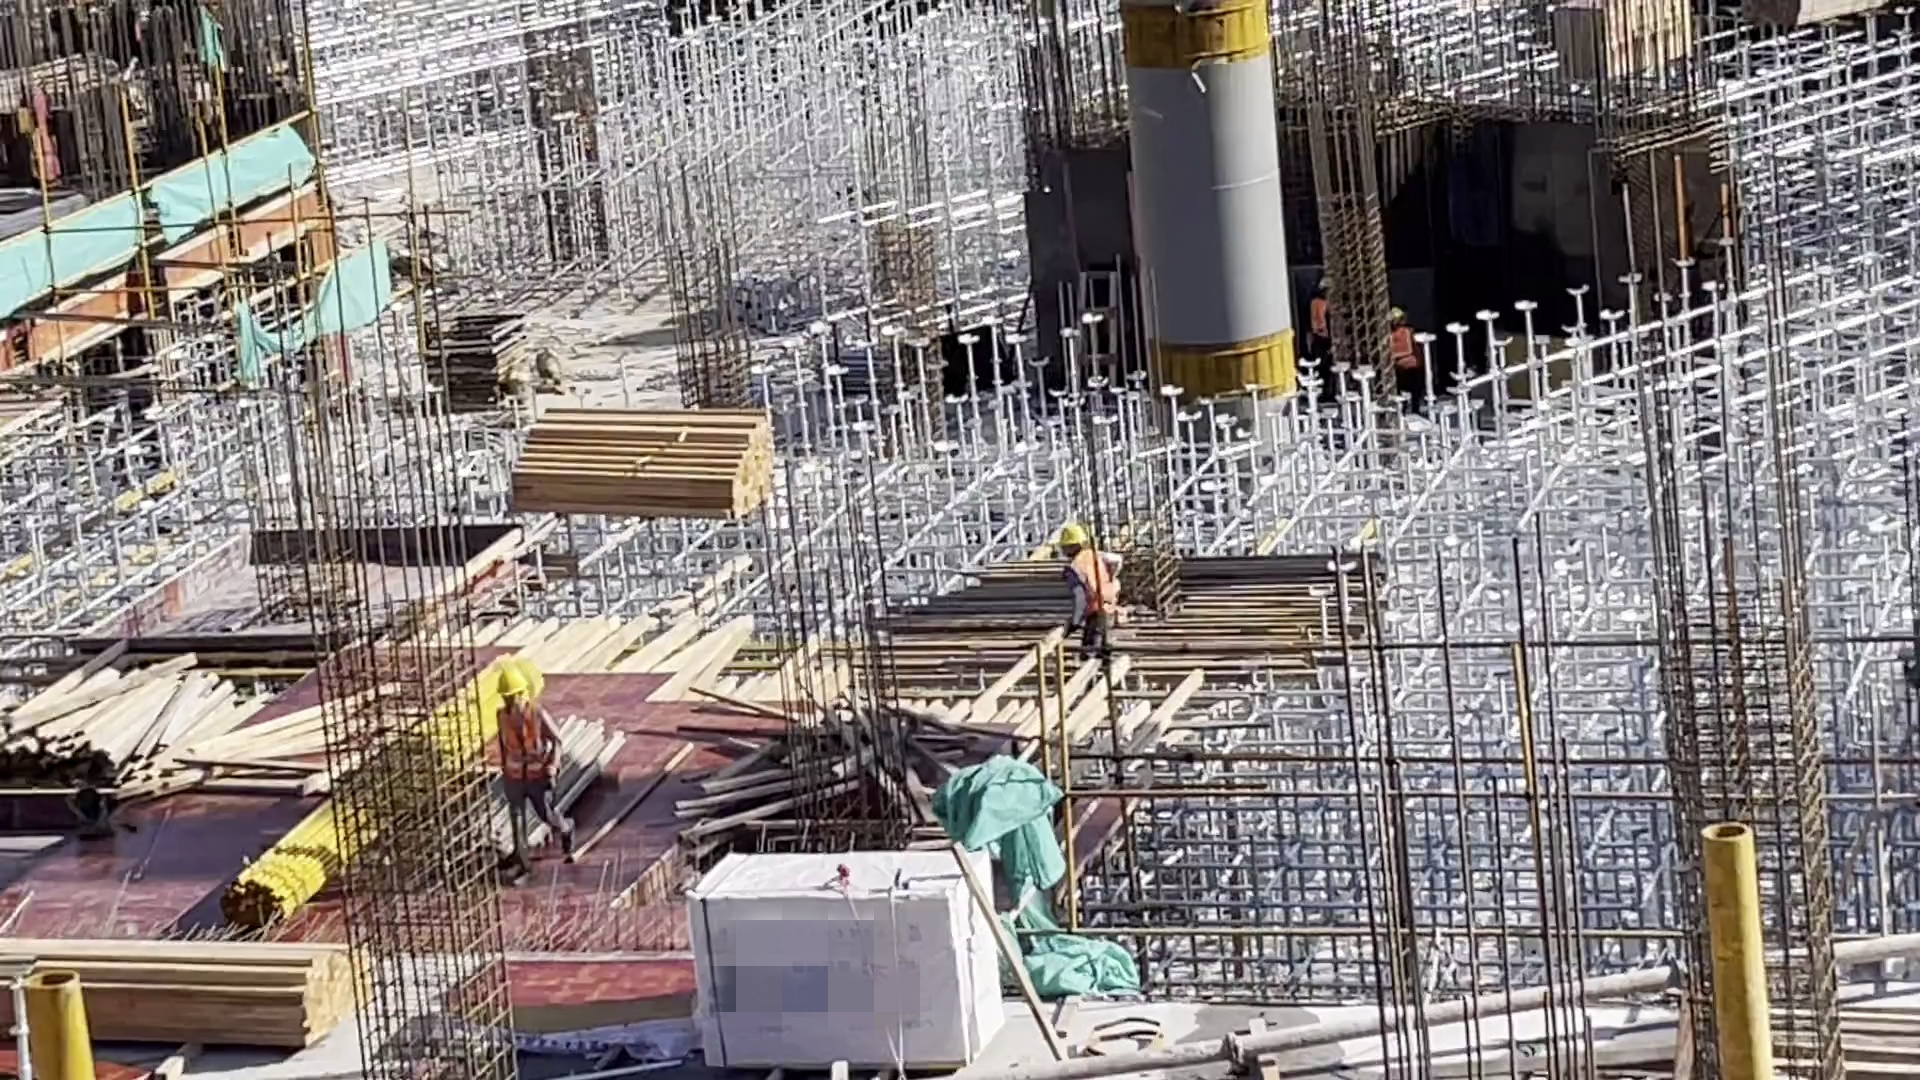board: (430, 298, 533, 408)
helmet: (497, 661, 534, 705), (1056, 520, 1092, 565), (1313, 270, 1340, 298), (1386, 308, 1409, 331)
person: (486, 652, 587, 905), (1054, 516, 1138, 684), (1386, 302, 1431, 431), (1304, 265, 1347, 386)
vest: (495, 700, 560, 792), (1075, 549, 1125, 615), (1309, 294, 1341, 352), (1384, 329, 1420, 375)
wood: (1, 921, 356, 1067), (1, 649, 250, 812), (502, 395, 795, 520)
